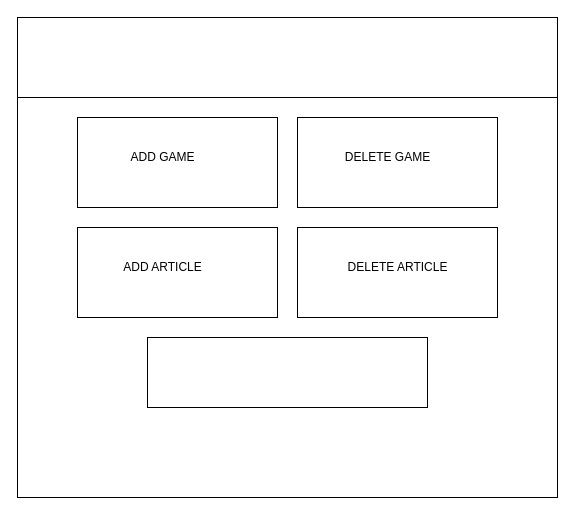
The diagram is 575 pixels wide and 515 high, and some of its shapes have lost their labels. The shapes that lost their labels are listed below. From the top down, each one's box as (x1, y1, x2, y2) in pixels, then its label:
(16, 16, 558, 98): IMAGE LOGO
(146, 336, 428, 408): DELETE USER
